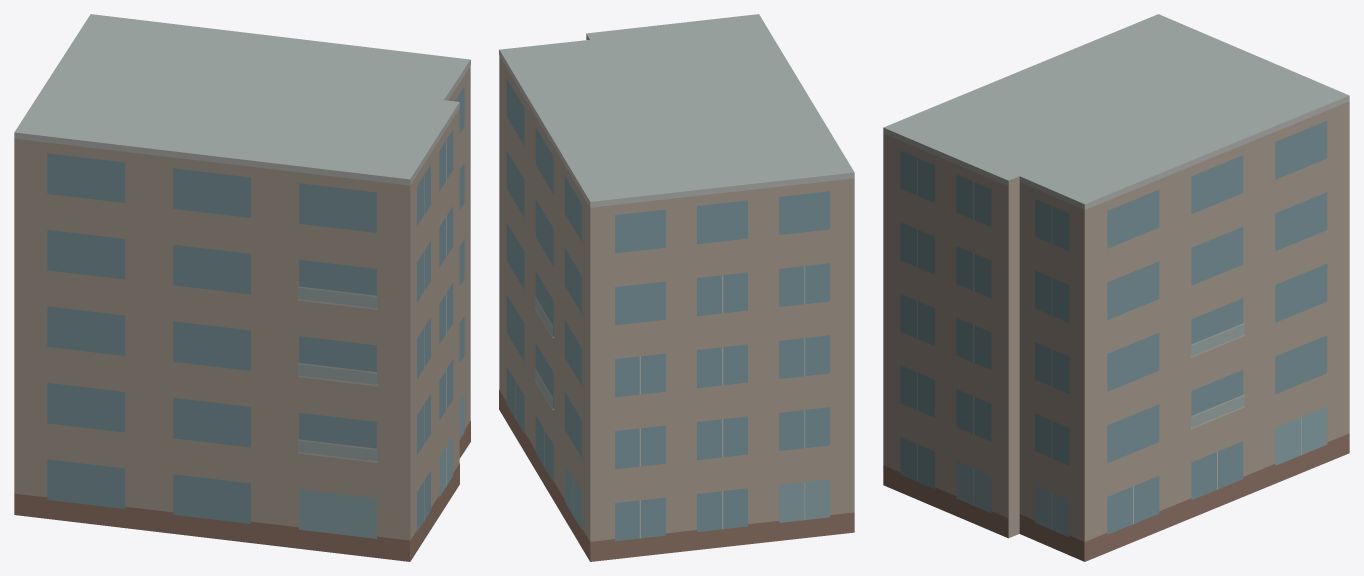
Rendered from survey-upis-32625891.glb.
3 renders of one model, left to right at view 1: azimuth 30°, elevation 25°; view 2: azimuth 150°, elevation 25°; view 3: azimuth 270°, elevation 25°, orthographic. The views are drawn at different scales.
Parts seen in each view (by area): view 1: survey-upis-32625891.tmp; view 2: survey-upis-32625891.tmp; view 3: survey-upis-32625891.tmp.
Boxes of the visible parts, bbox=[...] form: survey-upis-32625891.tmp: bbox=[14, 14, 470, 561]; survey-upis-32625891.tmp: bbox=[499, 14, 854, 561]; survey-upis-32625891.tmp: bbox=[883, 14, 1349, 561].
Size of the model in its own units: 17.41 by 15.25 by 18.03.
